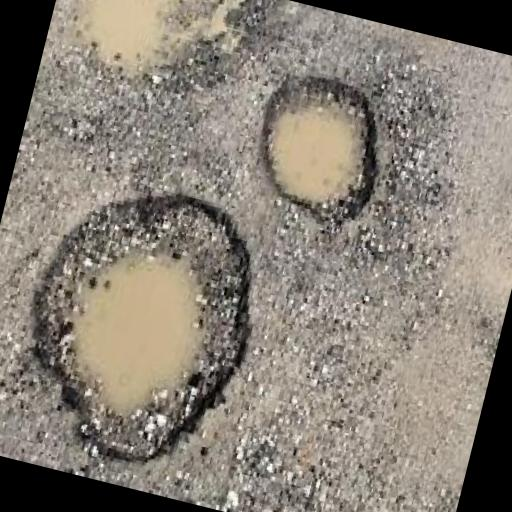pothole: (0, 158, 286, 492), (239, 60, 401, 230), (54, 0, 263, 115)
